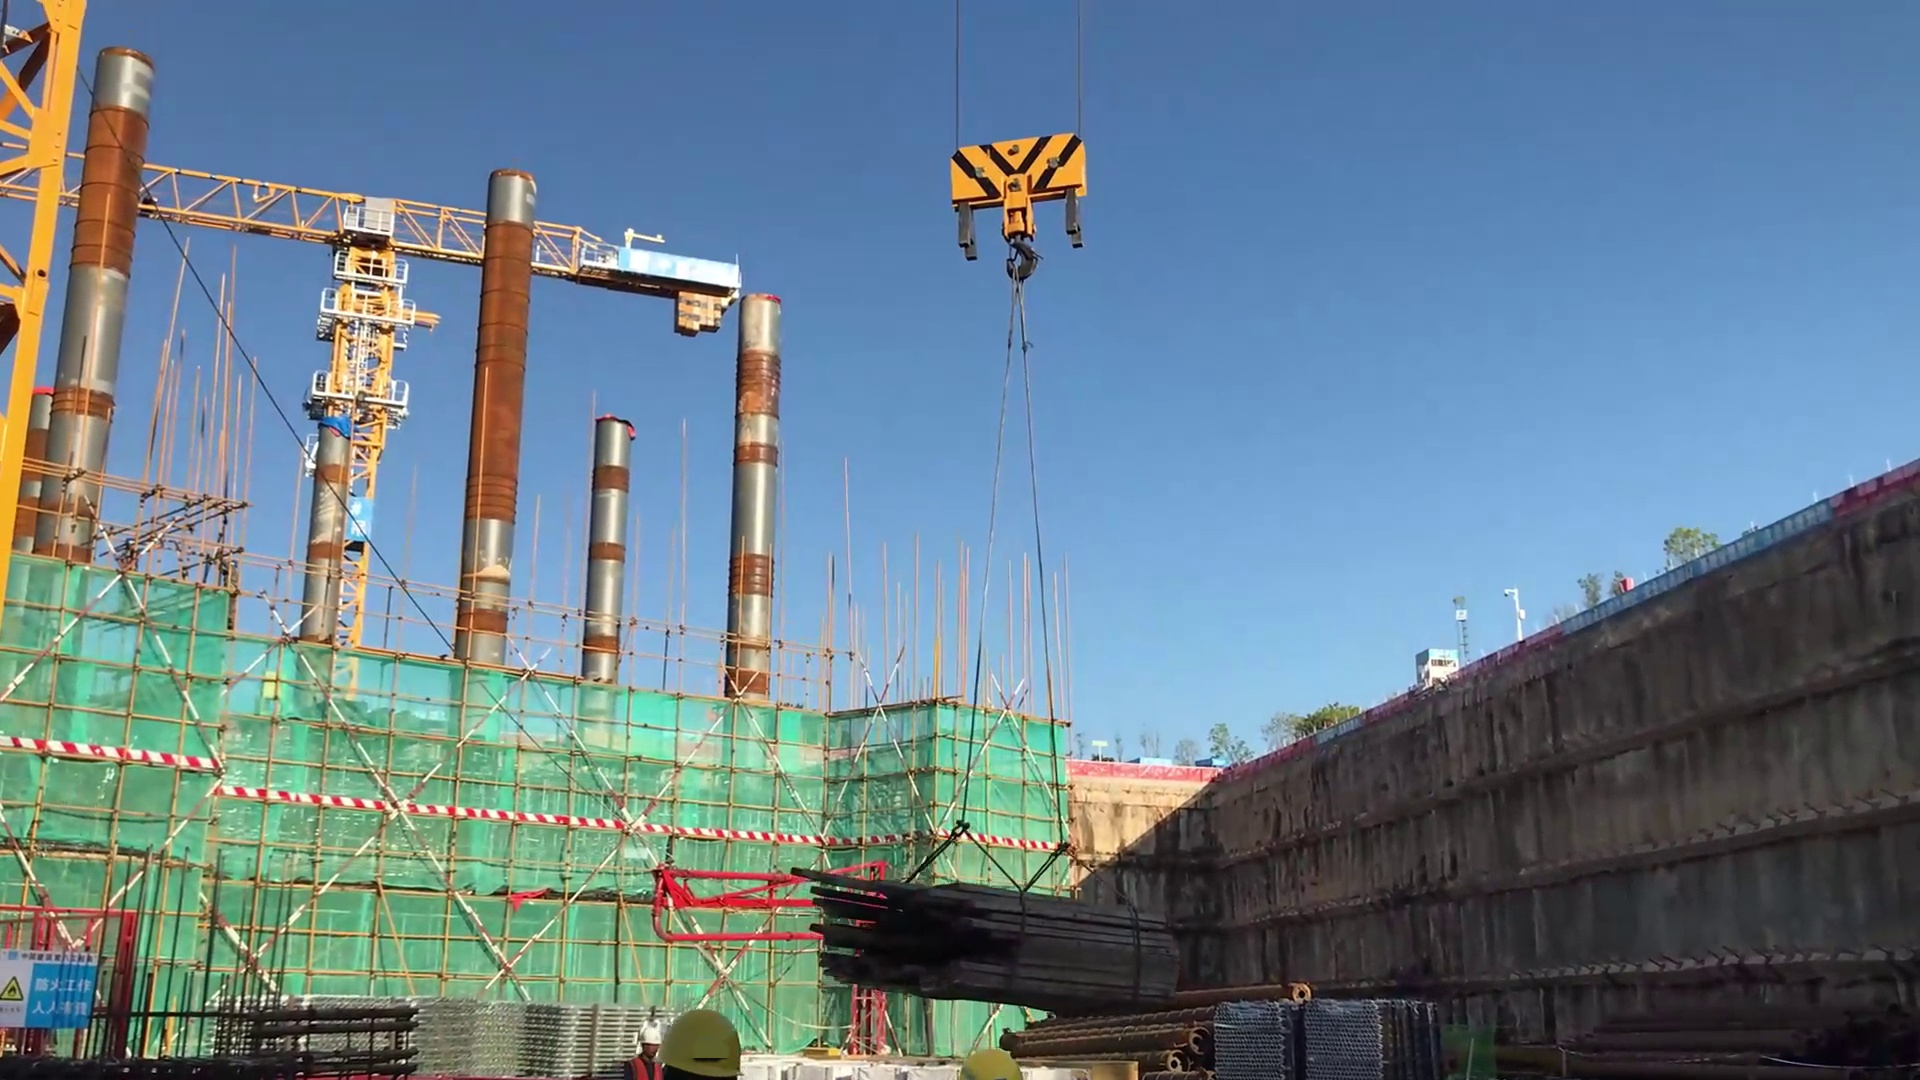helmet: (655, 1000, 760, 1080)
hook: (940, 127, 1096, 284)
slogan: (1542, 472, 1854, 630)
wood: (754, 851, 1217, 1010)
